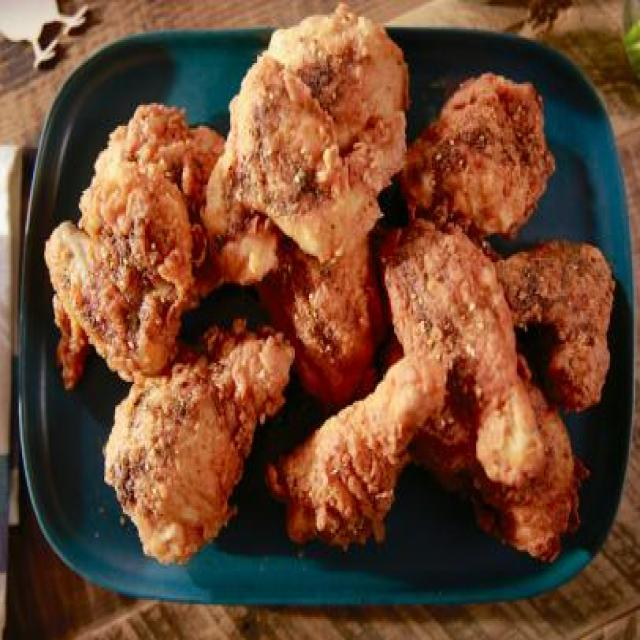Frango: (33, 4, 616, 573)
